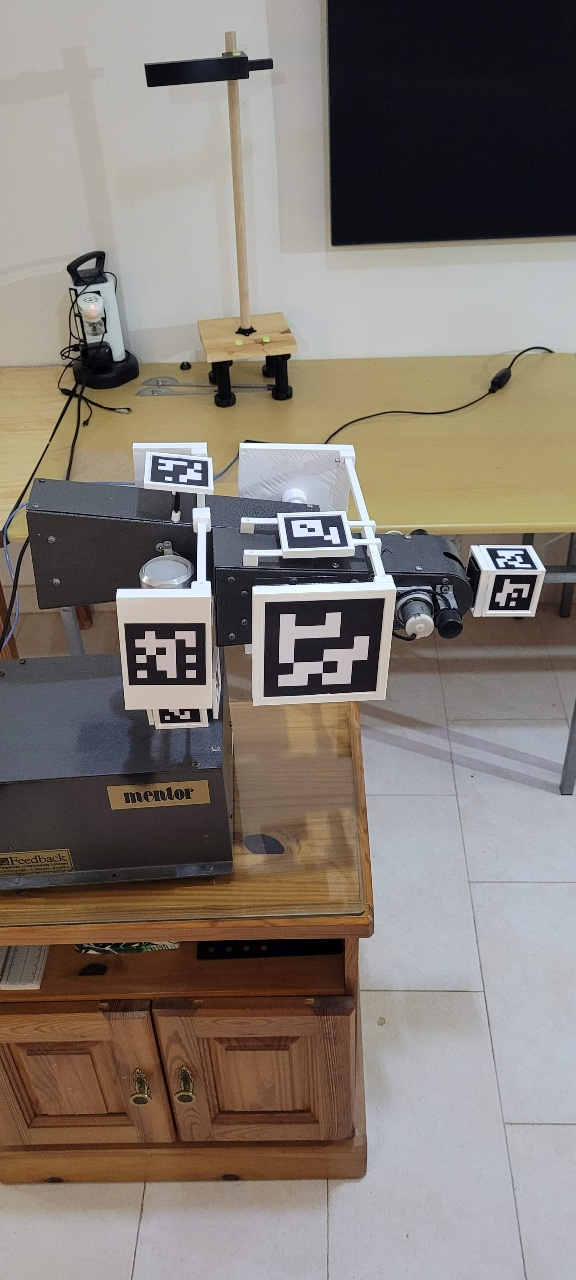Robot: (35, 328, 462, 1280)
